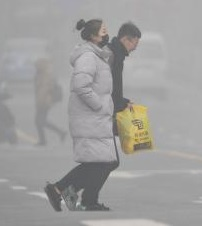person: (41, 13, 119, 213), (78, 20, 144, 213), (26, 56, 69, 148)
